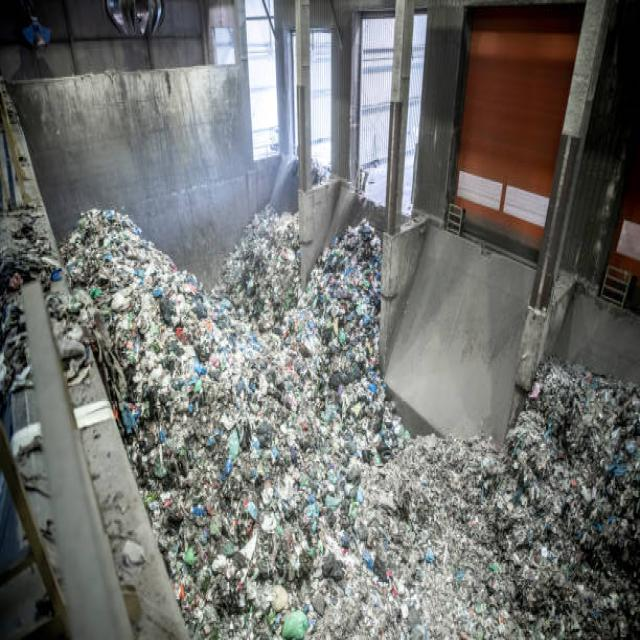trash: (59, 180, 610, 594)
